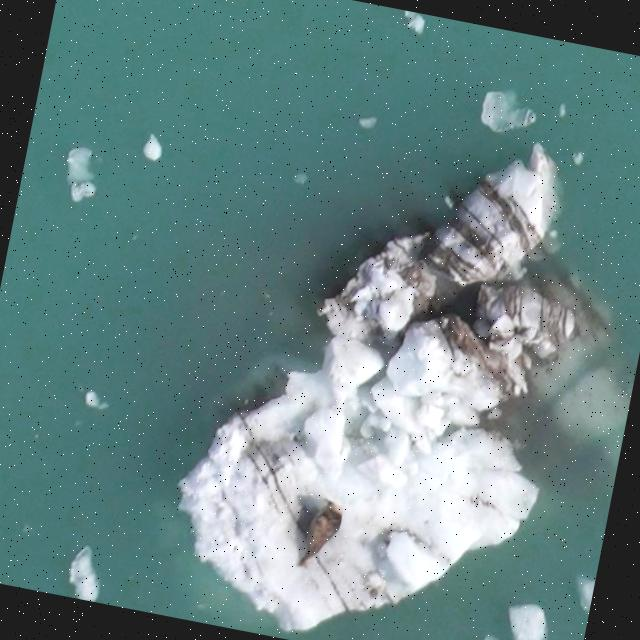seal: (281, 499, 353, 573)
